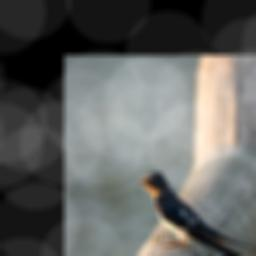Swallow: (134, 167, 256, 256)
